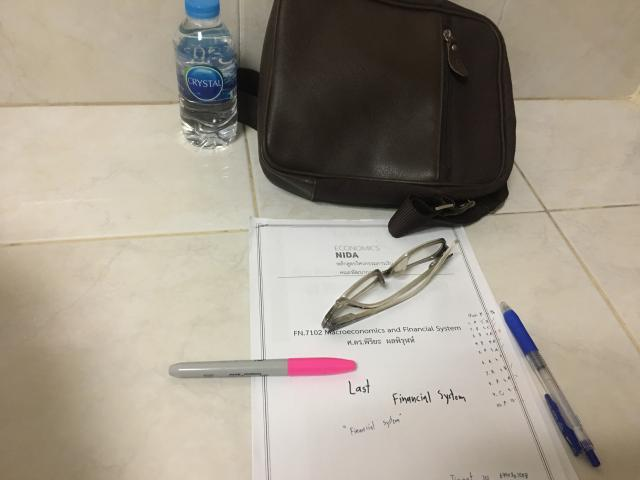Glasses: (321, 238, 459, 331)
Pen: (500, 302, 600, 468), (169, 358, 356, 378)
bottle: (174, 0, 238, 148)
paper: (249, 218, 575, 479)
